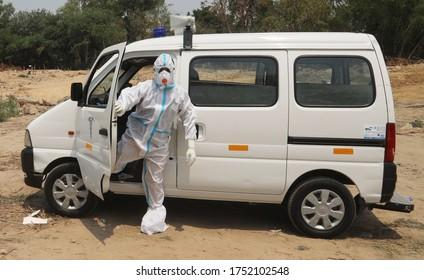ER: (20, 28, 397, 223)
